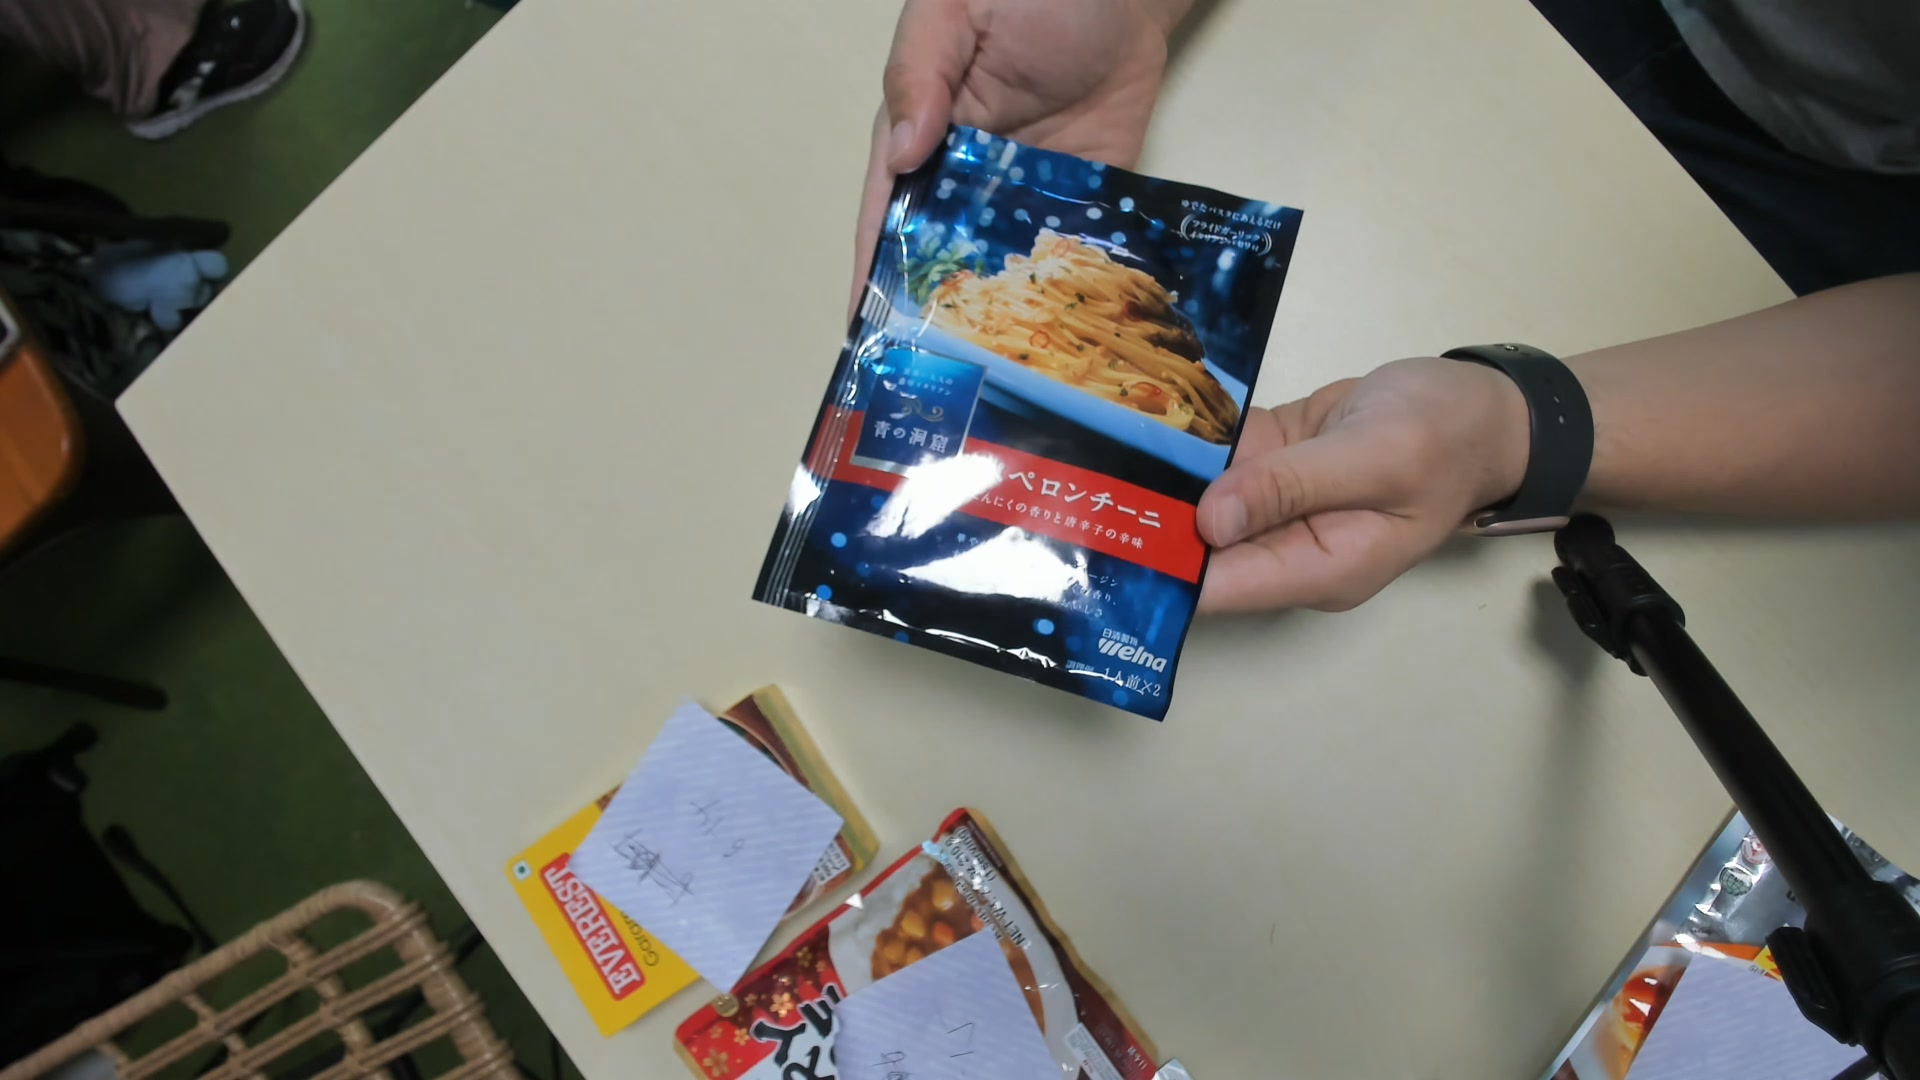CurryPastePowderSauce_0-99g_NonHalal_NonHealthy: (758, 119, 1305, 728)
